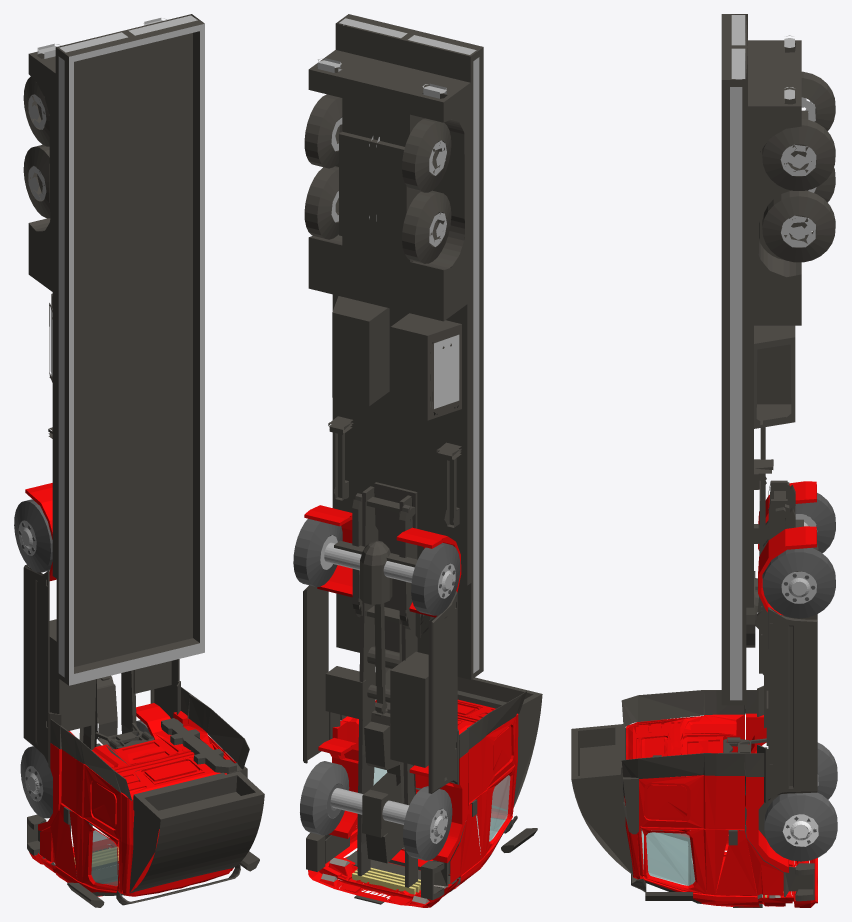
Rendered from truck_1.glb.
3 views of the same model, side by side, from view 1: azimuth 30°, elevation 25°; view 2: azimuth 150°, elevation 25°; view 3: azimuth 270°, elevation 25° (orthographic).
Parts seen in each view (by area): view 1: truck_back, truck_main, wheel_fr; view 2: truck_back, truck_main, wheel_fr, wheel_fl; view 3: truck_main, truck_back, wheel_fl, wheel_fr.
Boxes of the visible parts, bbox=[...] form: truck_back: bbox=[23, 14, 204, 685]; truck_main: bbox=[14, 483, 264, 907]; wheel_fr: bbox=[20, 746, 52, 818]; truck_back: bbox=[304, 14, 483, 679]; truck_main: bbox=[293, 482, 542, 907]; wheel_fr: bbox=[403, 786, 452, 860]; wheel_fl: bbox=[300, 761, 349, 835]; truck_main: bbox=[571, 480, 835, 907]; truck_back: bbox=[721, 14, 835, 705]; wheel_fl: bbox=[764, 792, 837, 861]; wheel_fr: bbox=[817, 742, 837, 799].
Bounding box in the file's own units: 5.58 × 26.58 × 7.65.
